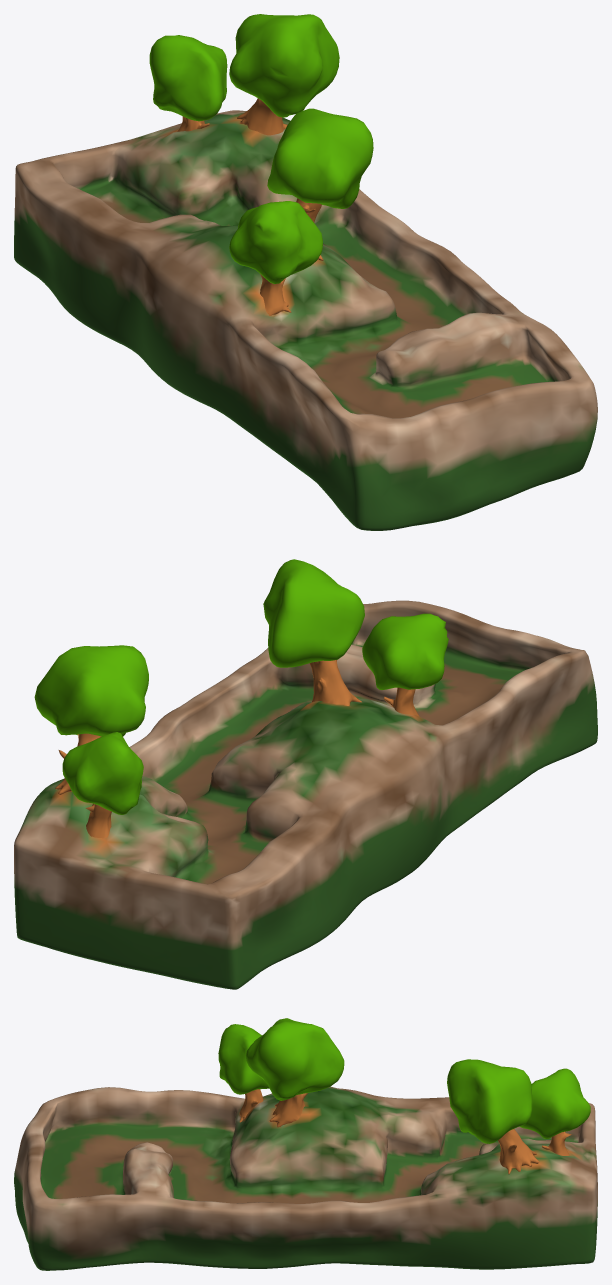
File: sceneTest.fbx
3 renders of one model, top to bottom at view 1: azimuth 30°, elevation 25°; view 2: azimuth 150°, elevation 25°; view 3: azimuth 270°, elevation 25°, orthographic. The views are drawn at different scales.
Parts seen in each view (by area): view 1: Merged_cube_NewUVs; view 2: Merged_cube_NewUVs; view 3: Merged_cube_NewUVs.
Boxes of the visible parts, bbox=[...] form: Merged_cube_NewUVs: bbox=[14, 14, 597, 530]; Merged_cube_NewUVs: bbox=[14, 559, 597, 989]; Merged_cube_NewUVs: bbox=[14, 1018, 597, 1270].
Bounding box in the file's own units: 1.64 × 1.49 × 3.69.
